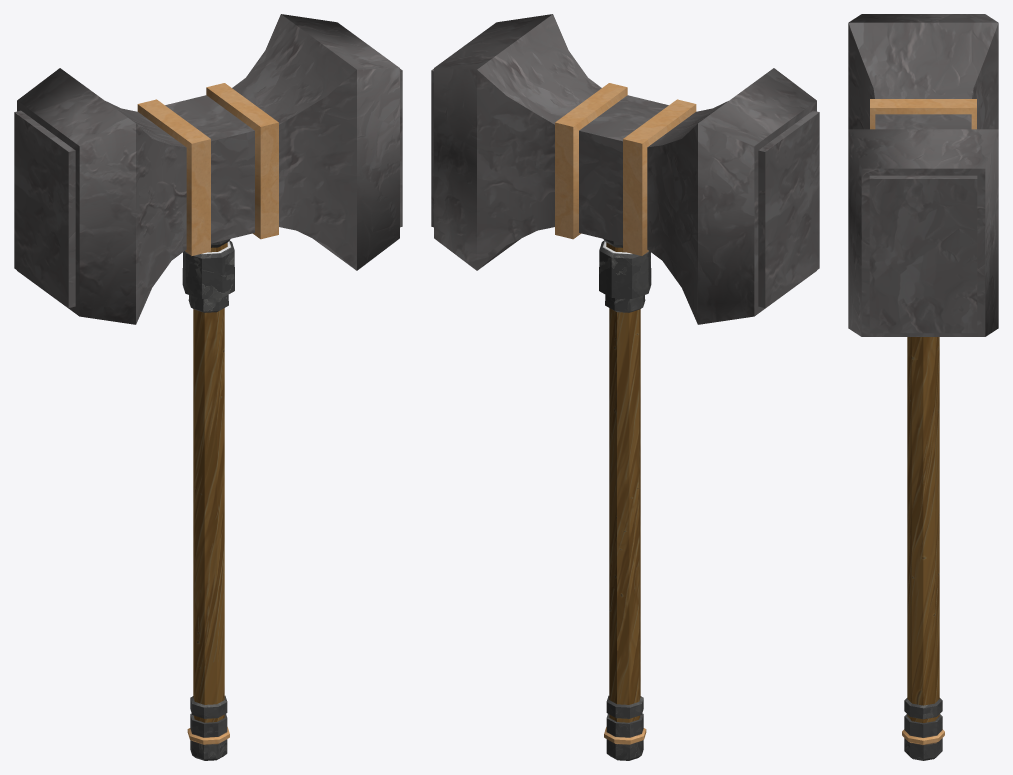
Rendered from practice_hammerTexture.glb.
3 renders of one model, left to right at view 1: azimuth 30°, elevation 25°; view 2: azimuth 150°, elevation 25°; view 3: azimuth 270°, elevation 25°, orthographic.
Visible parts, largest first — view 1: pMainHead, pLongWood, pMetal, pMetalBand1, pMetalBand0; view 2: pMainHead, pLongWood, pMetal, pMetalBand1, pMetalBand0; view 3: pMainHead, pLongWood, pMetal, pMetalBand1.
Part boxes in pixels (bbox=[...]): pMainHead: bbox=[14, 14, 402, 324]; pLongWood: bbox=[193, 308, 224, 704]; pMetal: bbox=[182, 239, 234, 760]; pMetalBand1: bbox=[137, 99, 210, 255]; pMetalBand0: bbox=[206, 83, 278, 239]; pMainHead: bbox=[431, 14, 819, 324]; pLongWood: bbox=[609, 308, 640, 704]; pMetal: bbox=[599, 239, 651, 760]; pMetalBand1: bbox=[623, 99, 696, 255]; pMetalBand0: bbox=[555, 83, 627, 239]; pMainHead: bbox=[848, 14, 998, 336]; pLongWood: bbox=[907, 337, 939, 705]; pMetal: bbox=[902, 698, 944, 760]; pMetalBand1: bbox=[870, 99, 976, 129].
Size of the model in its own units: 0.049 by 0.0965 by 0.0193.
Materials: 1 (1 with a texture image).
